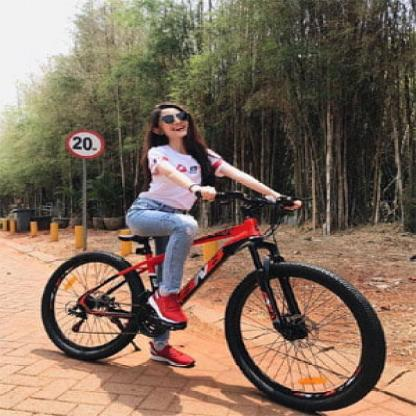Bike: (35, 194, 401, 412)
